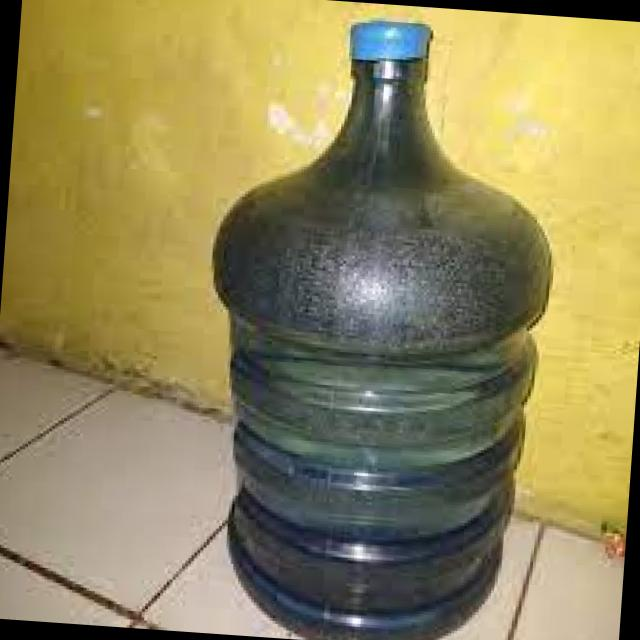Galon: (180, 4, 570, 640)
